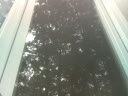window: (0, 1, 52, 96), (65, 48, 95, 79), (61, 13, 86, 23), (120, 57, 128, 72), (117, 29, 122, 34)
